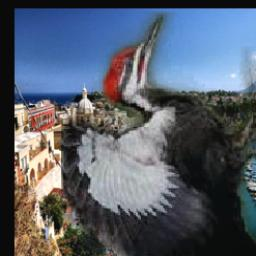Woodpecker: (61, 12, 256, 256)
